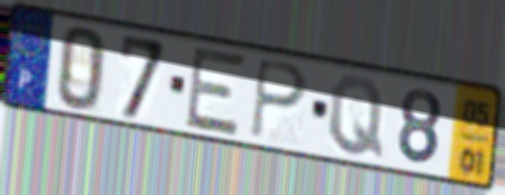0: (53, 22, 109, 114)
7: (117, 30, 168, 123)
8: (397, 87, 444, 167)
E: (182, 43, 249, 140)
P: (248, 55, 310, 141)
Q: (326, 73, 386, 163)
